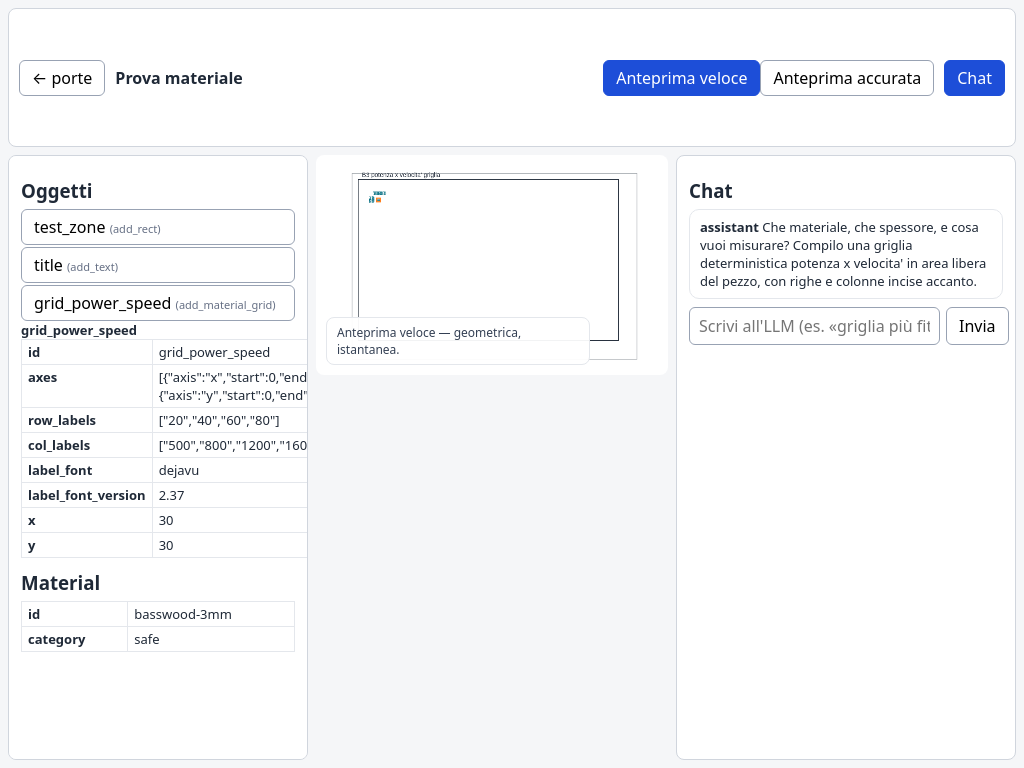
canvas (two-level preview) › selecting an object keeps the canvas rendering (no crash, highlight state)
Click the button with test id "object-test_zone" at (158, 227), box [21, 209, 295, 245]
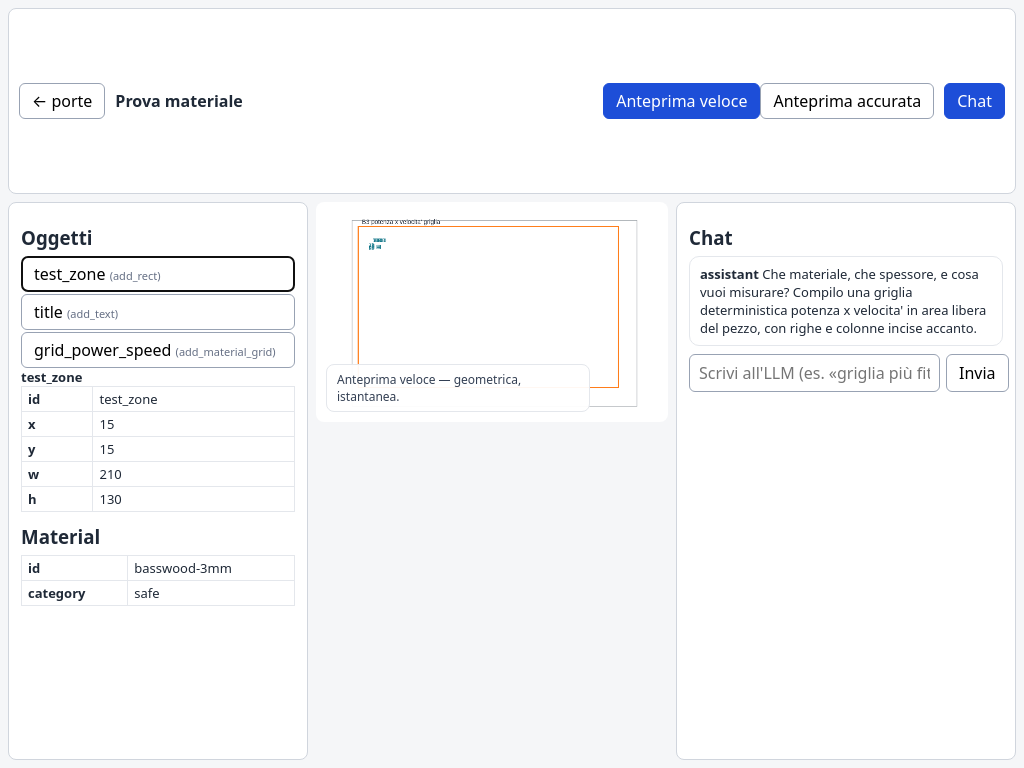
expect the drawing with test id "canvas" is shown: met, box [316, 202, 668, 422]
expect the table with test id "props-test_zone" is shown: met, box [21, 368, 295, 512]
